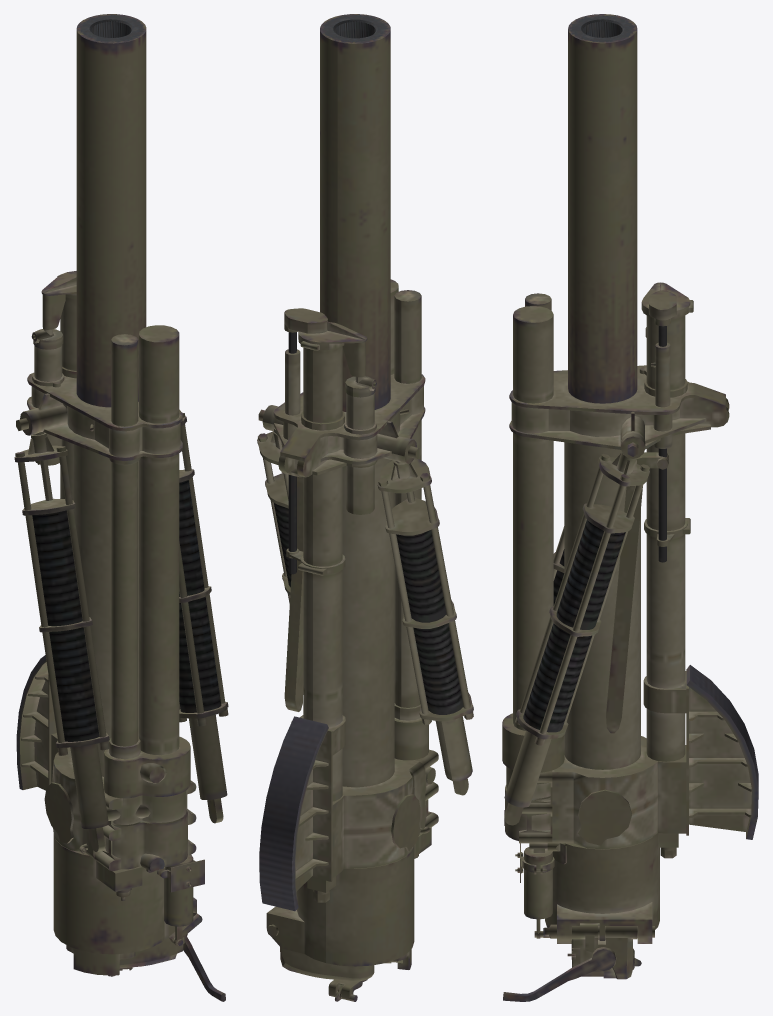
Rendered from Gun_01.glb.
3 views of the same model, side by side, from view 1: azimuth 30°, elevation 25°; view 2: azimuth 150°, elevation 25°; view 3: azimuth 270°, elevation 25° (orthographic). The views are drawn at different scales.
Visible parts, largest first — view 1: set_0_group_0; view 2: set_0_group_0; view 3: set_0_group_0.
Part boxes in pixels (x1=…): set_0_group_0: x1=14, y1=14, x2=228, y2=1001; set_0_group_0: x1=257, y1=14, x2=473, y2=1001; set_0_group_0: x1=502, y1=14, x2=758, y2=1001.
Bounding box in the file's own units: 0.7156 × 3.82 × 0.9423.
1 material, 1 textured.
